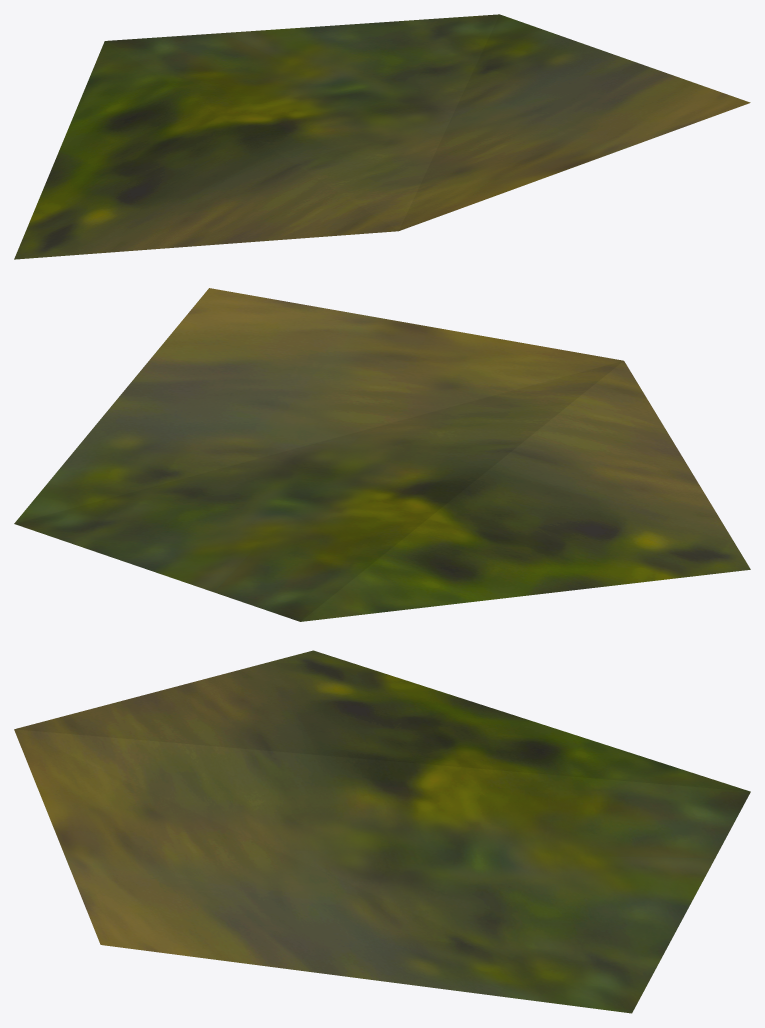
Rendered from Ridge_7_1_Top.gltf.
The picture shows the model from 3 angles, top to bottom: view 1: azimuth 30°, elevation 25°; view 2: azimuth 150°, elevation 25°; view 3: azimuth 270°, elevation 25°; orthographic projection. The views are drawn at different scales.
Visible parts, largest first — view 1: Ridge_7_1_Top; view 2: Ridge_7_1_Top; view 3: Ridge_7_1_Top.
Boxes of the visible parts, x1,y1,x2,y2 form: Ridge_7_1_Top: (14, 14, 750, 259); Ridge_7_1_Top: (14, 288, 750, 621); Ridge_7_1_Top: (14, 650, 750, 1013).
Size of the model in its own units: 21.54 by 2.25 by 18.07.
Materials: 1 (1 with a texture image).
